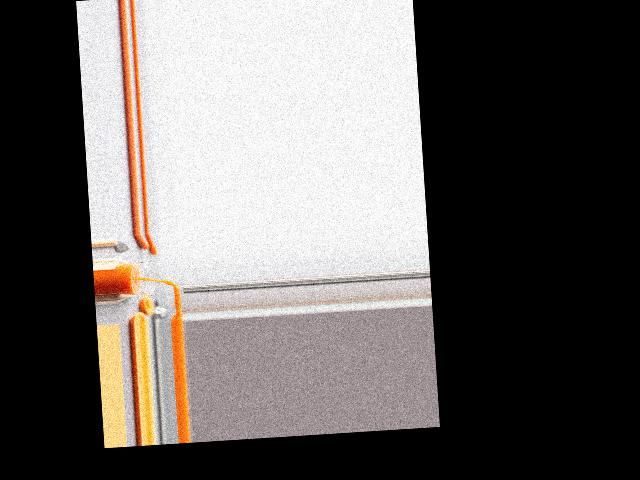carrot: (132, 233, 156, 257)
